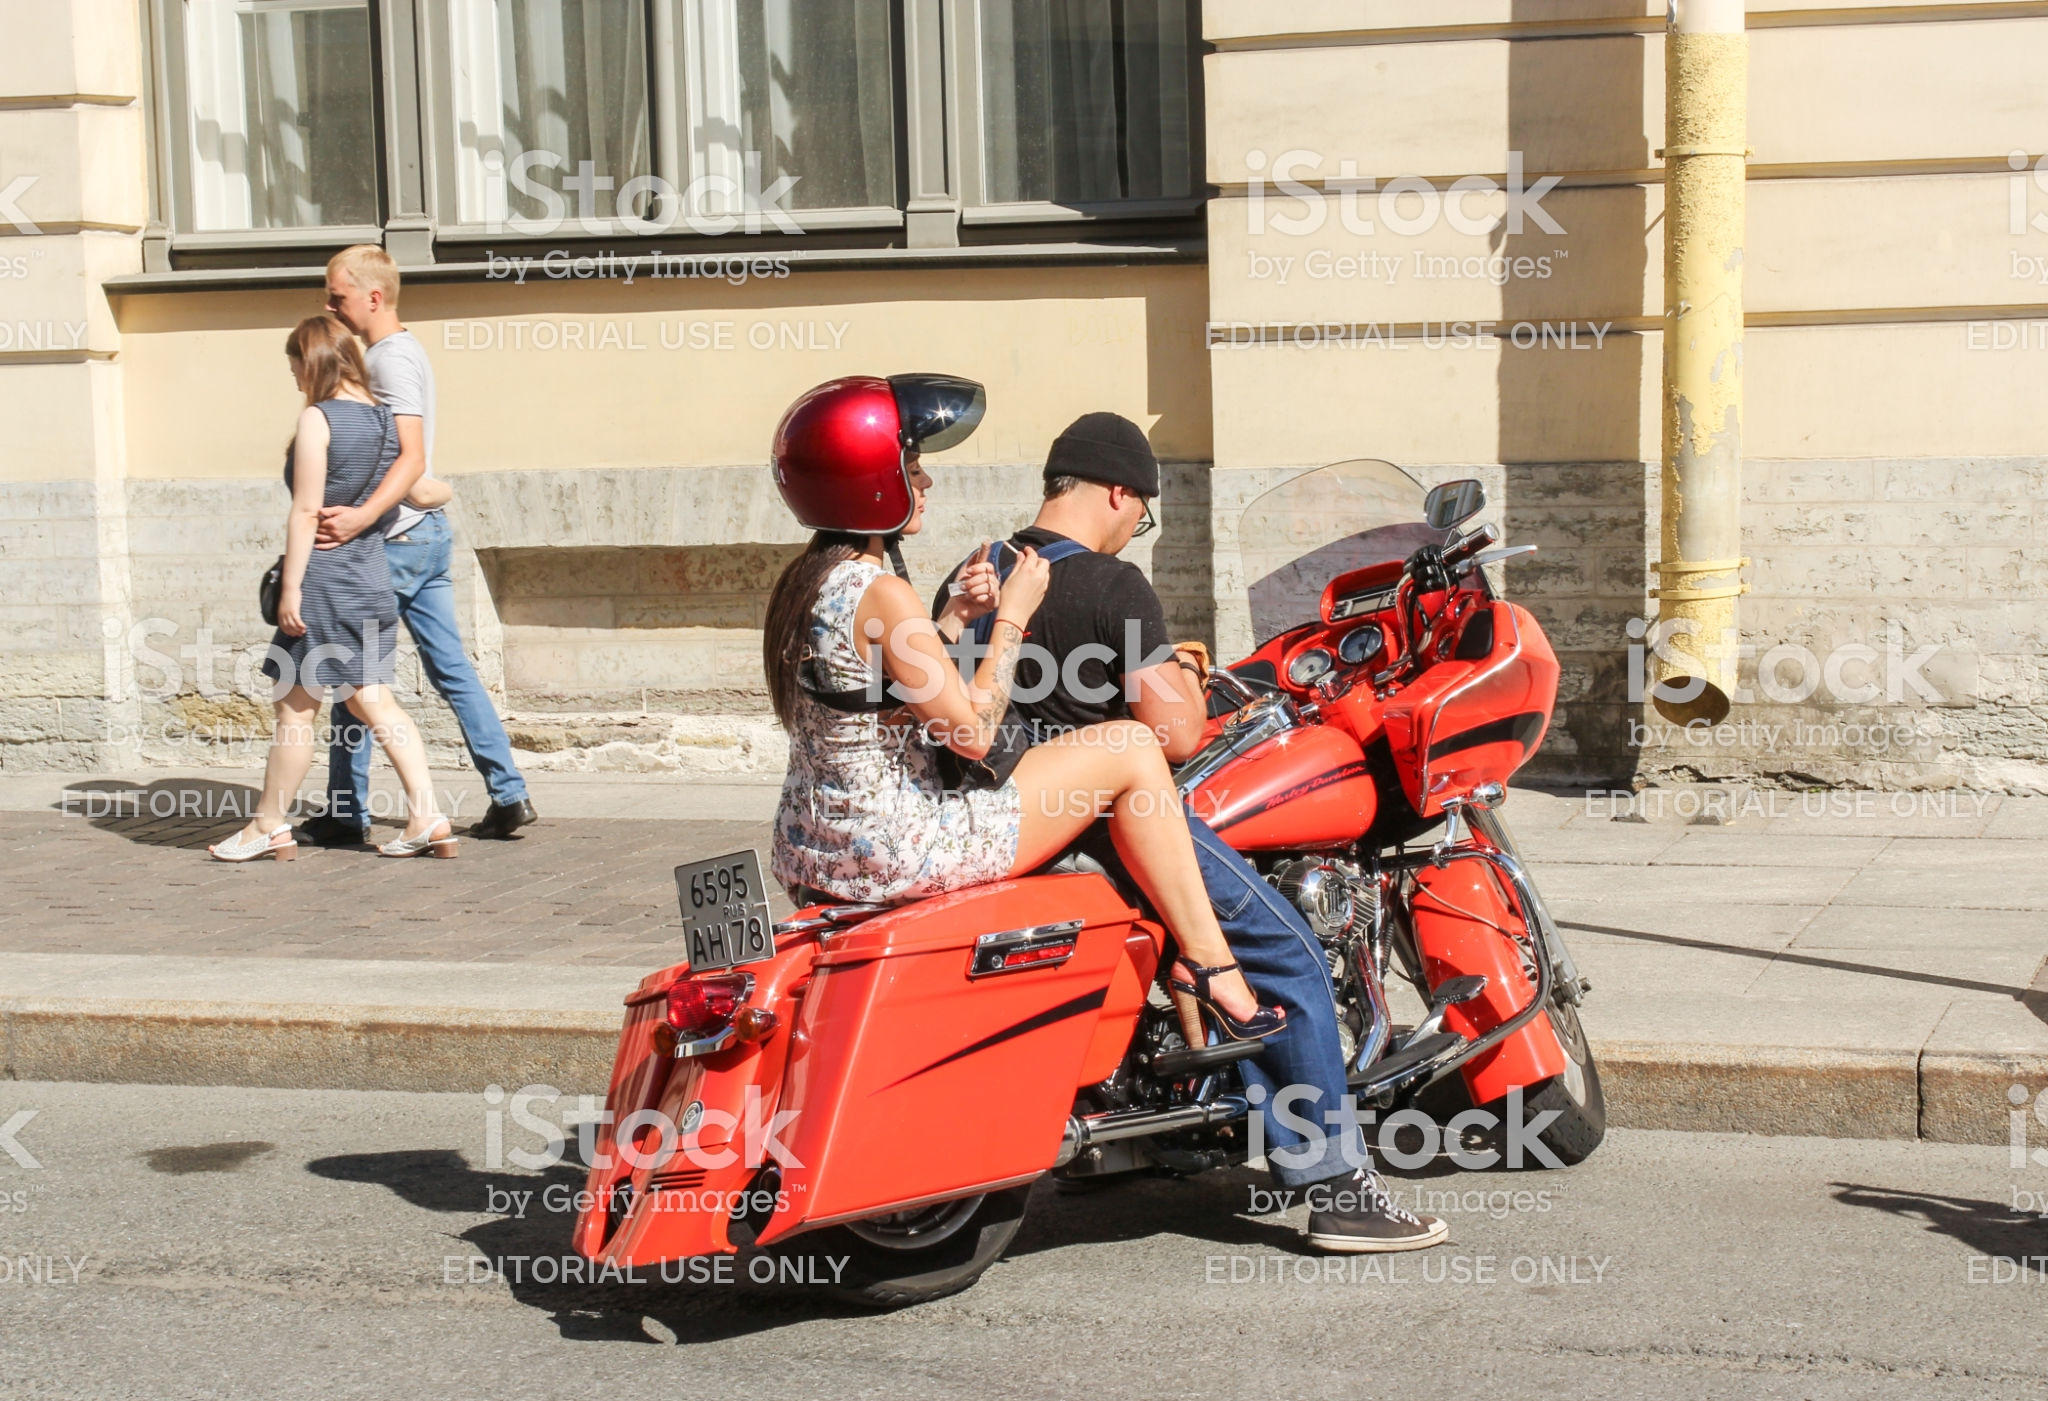helmet: (772, 377, 935, 534)
